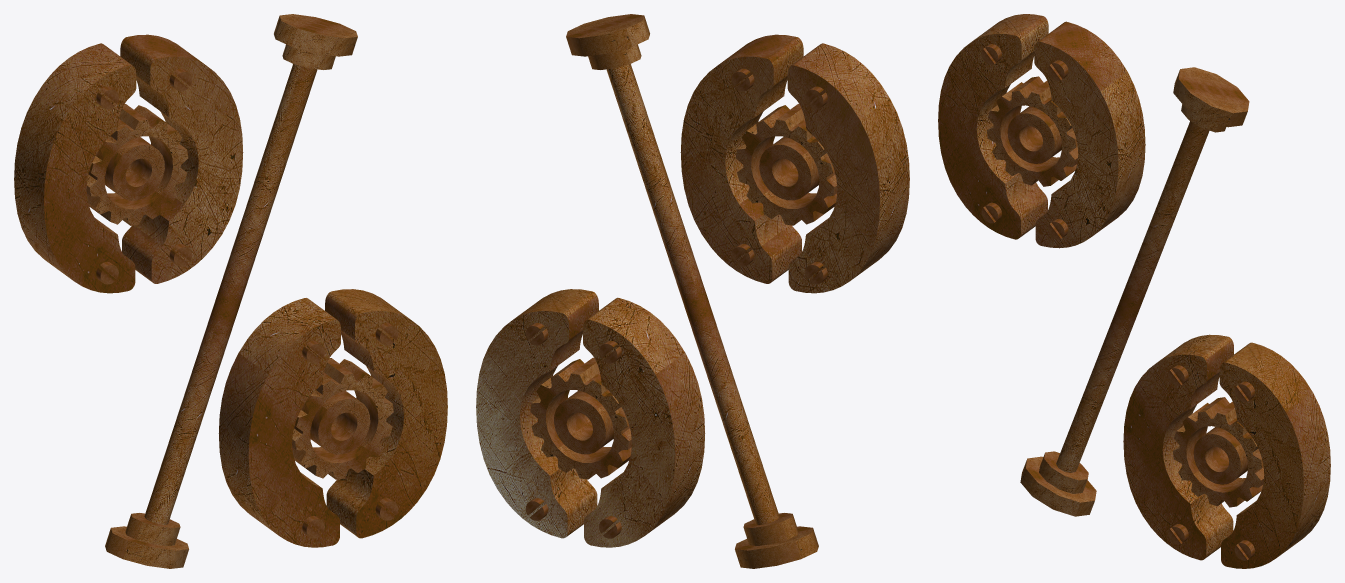
The model's file is Interest.FBX.
The picture shows the model from 3 angles, left to right: view 1: azimuth 30°, elevation 25°; view 2: azimuth 150°, elevation 25°; view 3: azimuth 330°, elevation 25°; orthographic projection. The views are drawn at different scales.
Visible parts, largest first — view 1: Interest003, Tube_376, Cogwheel_215, Cogwheel_235, Tube_378, Tube_372, Tube_365, Tube_373; view 2: Interest003, Tube_376, Cogwheel_215, Cogwheel_235, Tube_378, Tube_372, Tube_365, Tube_373; view 3: Interest003, Tube_376, Cogwheel_235, Cogwheel_215, Tube_378, Tube_372, Tube_365.
Part boxes in pixels (x1,y1,x2,y2): Interest003: (14, 34, 447, 547); Tube_376: (144, 64, 317, 525); Cogwheel_215: (292, 358, 393, 479); Cogwheel_235: (86, 104, 188, 225); Tube_378: (274, 14, 357, 56); Tube_372: (105, 526, 188, 568); Tube_365: (125, 513, 180, 545); Tube_373: (282, 44, 335, 69); Interest003: (476, 34, 909, 547); Tube_376: (606, 64, 779, 524); Cogwheel_215: (530, 357, 631, 479); Cogwheel_235: (735, 103, 837, 225); Tube_378: (566, 14, 649, 56); Tube_372: (735, 526, 818, 568); Tube_365: (743, 513, 798, 545); Tube_373: (588, 44, 641, 69); Interest003: (938, 14, 1330, 568); Tube_376: (1056, 121, 1209, 472); Cogwheel_235: (986, 76, 1078, 186); Cogwheel_215: (1172, 397, 1264, 507); Tube_378: (1173, 67, 1249, 127); Tube_372: (1020, 456, 1096, 516); Tube_365: (1039, 451, 1088, 493).
Size of the model in its own units: 78.13 by 97.9 by 12.89.
1 material, 1 textured.
